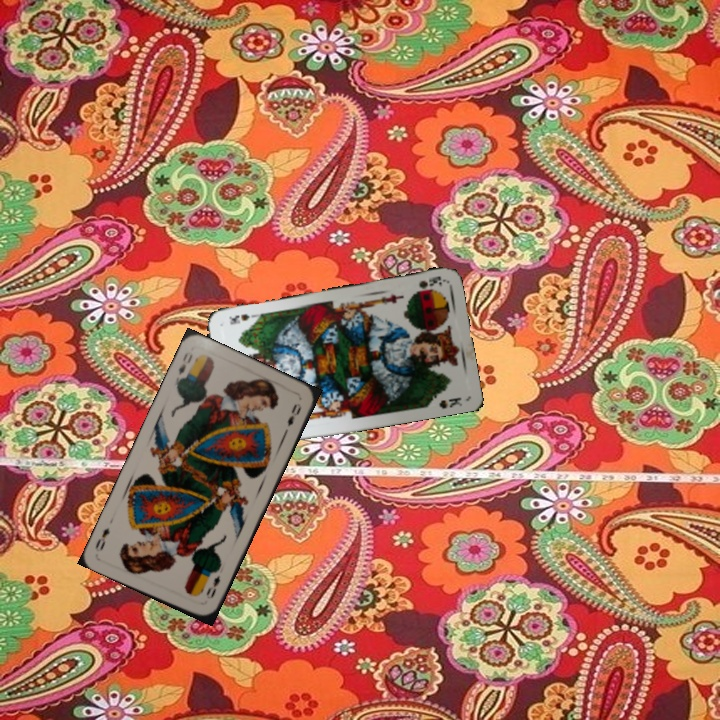EO: (202, 571, 223, 602), (174, 348, 195, 378)
SK: (411, 272, 446, 294)
